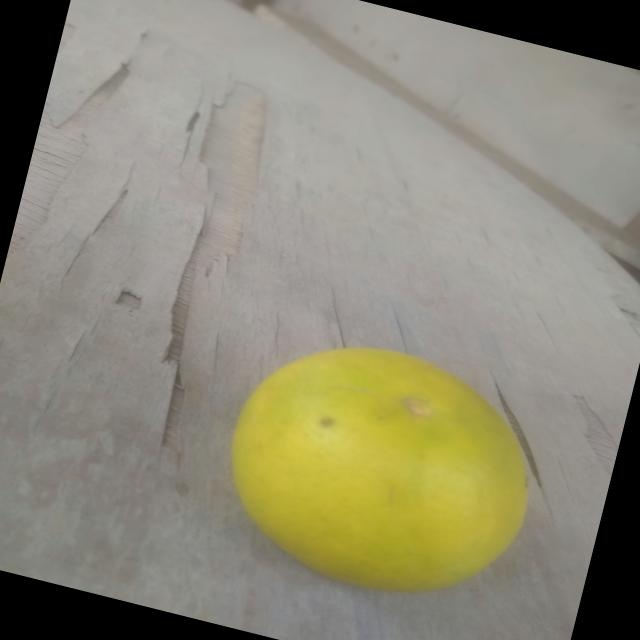agrume: (205, 315, 560, 621)
